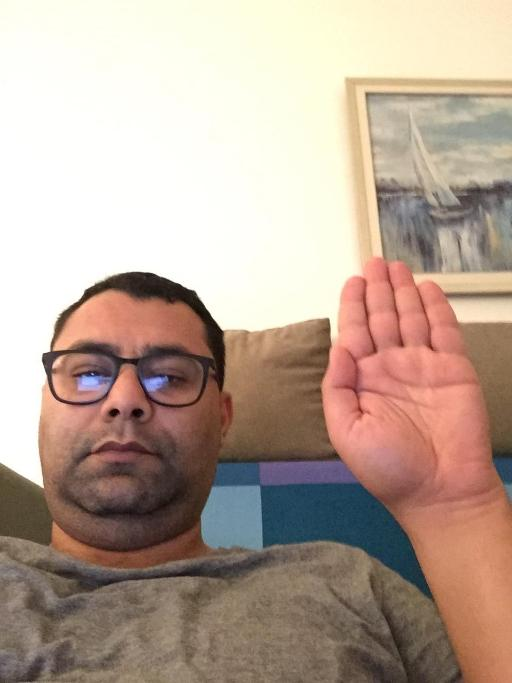stop: (308, 253, 497, 504)
